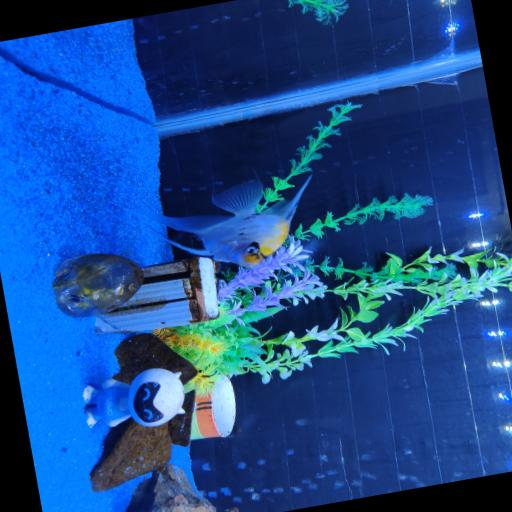Fish: (136, 176, 310, 267)
